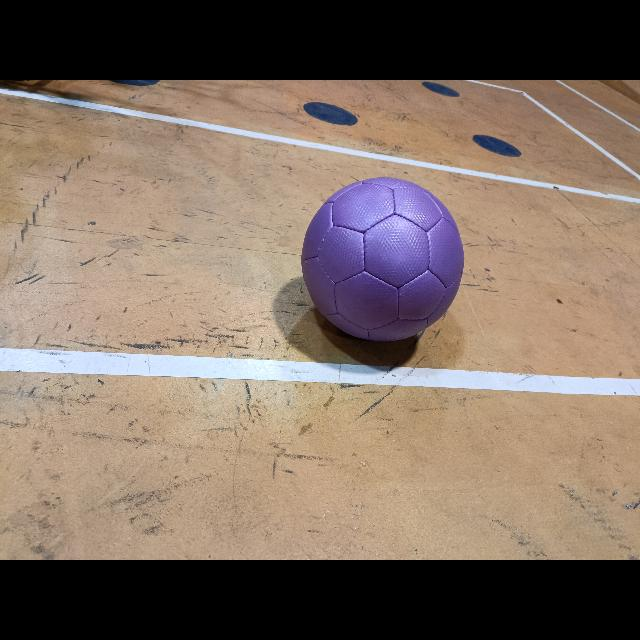P: (302, 178, 464, 340)
